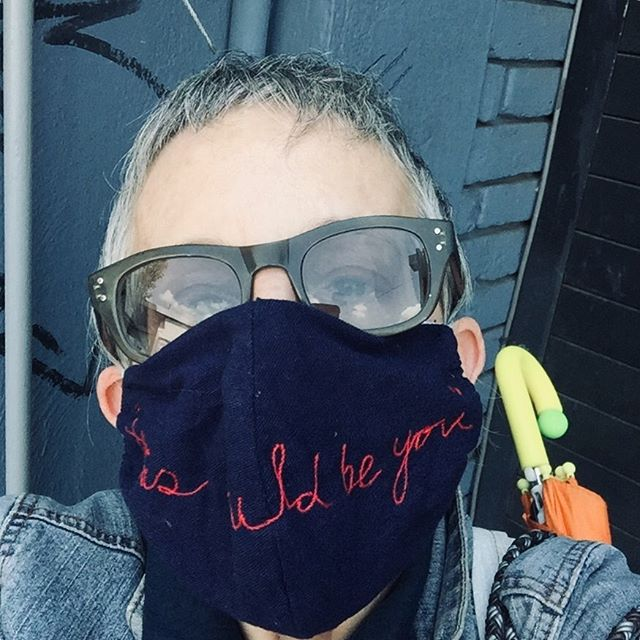homemade: (95, 335, 455, 629)
